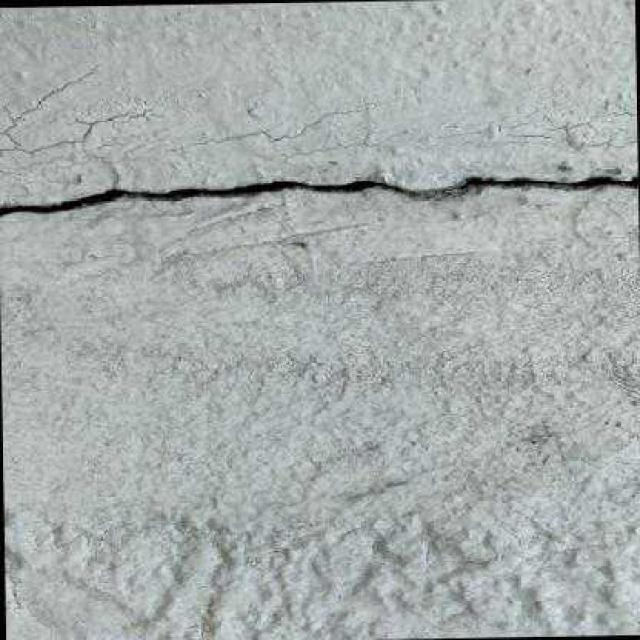D00: (0, 172, 638, 217)
